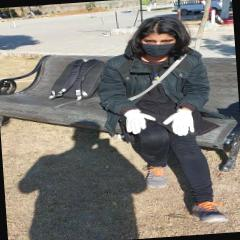gloved: (124, 107, 156, 136), (164, 108, 192, 135)
